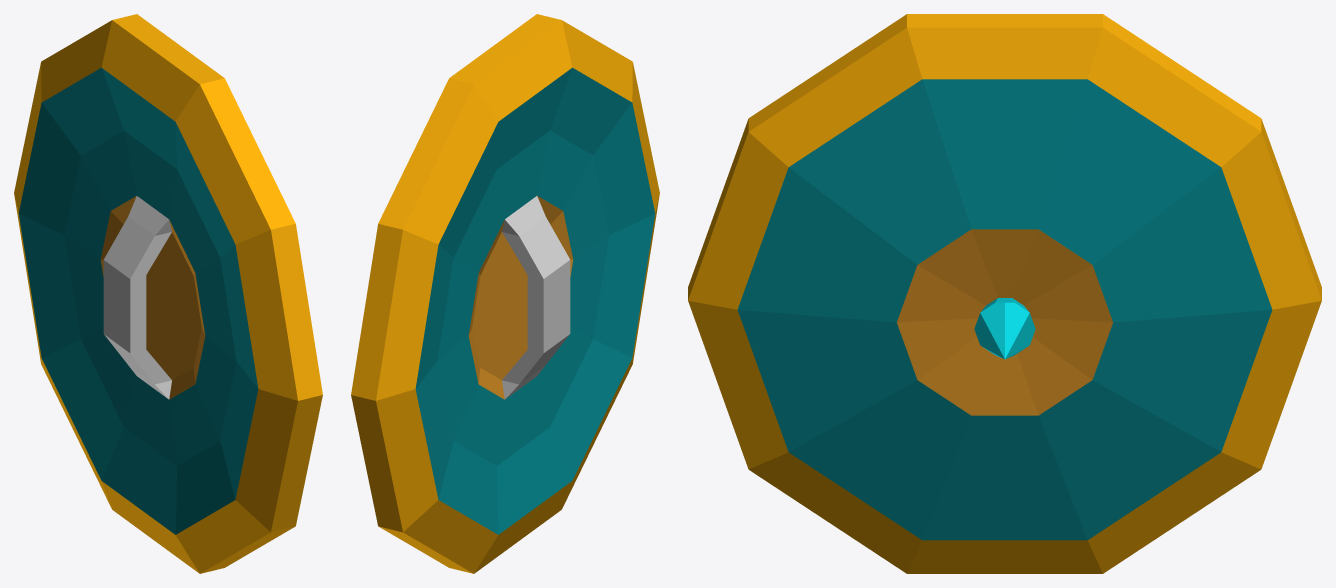
Rendered from shield.glb.
3 renders of one model, left to right at view 1: azimuth 30°, elevation 25°; view 2: azimuth 150°, elevation 25°; view 3: azimuth 270°, elevation 25°, orthographic. The views are drawn at different scales.
Visible parts, largest first — view 1: Shield inner 1, Shield Outer, Shield Handle, Shield Inner 2; view 2: Shield inner 1, Shield Outer, Shield Handle, Shield Inner 2; view 3: Shield inner 1, Shield Outer, Shield Inner 2, Shield Spike.
Boxes of the visible parts, x1,y1,x2,y2 form: Shield inner 1: (18, 67, 258, 534); Shield Outer: (14, 14, 322, 573); Shield Handle: (103, 196, 171, 399); Shield Inner 2: (100, 196, 205, 399); Shield inner 1: (415, 67, 655, 534); Shield Outer: (351, 14, 659, 573); Shield Handle: (502, 196, 570, 399); Shield Inner 2: (468, 196, 573, 399); Shield inner 1: (737, 79, 1272, 540); Shield Outer: (688, 14, 1321, 573); Shield Inner 2: (897, 229, 1112, 415); Shield Spike: (974, 298, 1035, 359).
Bounding box in the file's own units: 359 × 979 × 1029.
